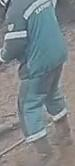gloves: (0, 46, 7, 71)
vest: (0, 0, 68, 77)
